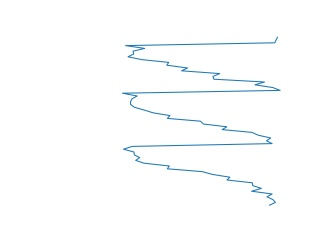distributaryMouthBar: (120, 36, 282, 207)
